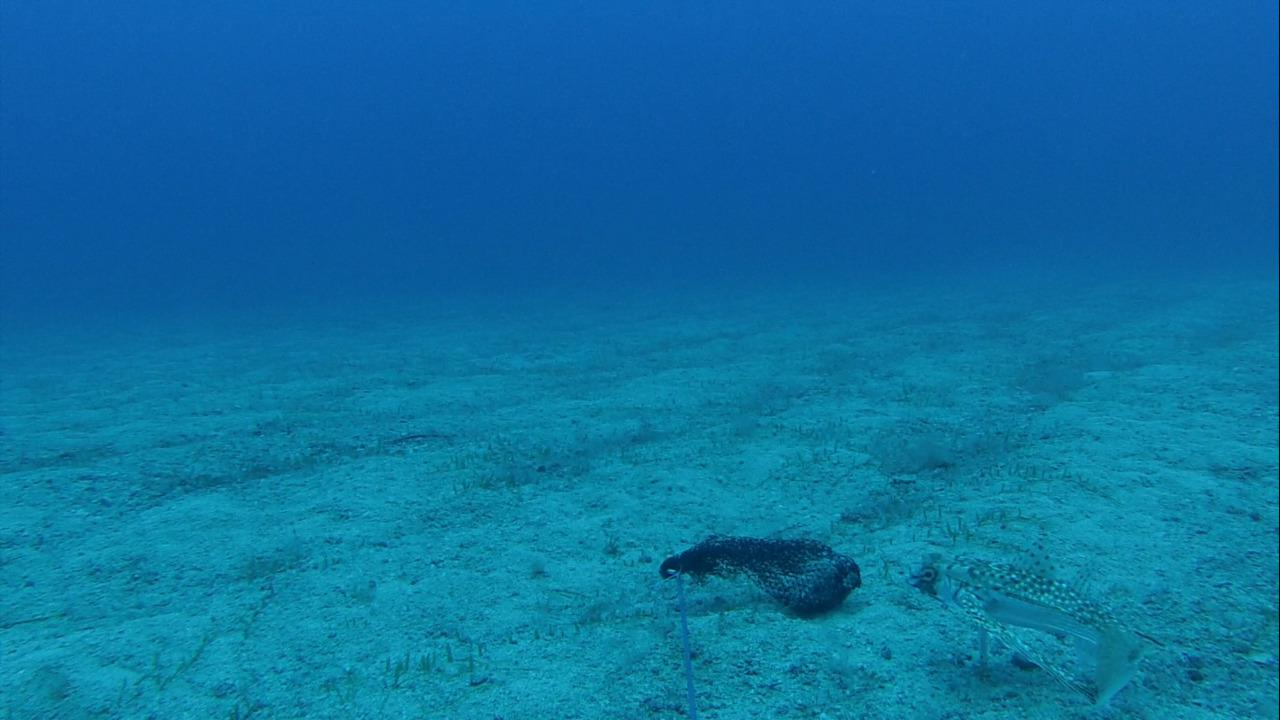dactylopterus: (901, 533, 1155, 707)
